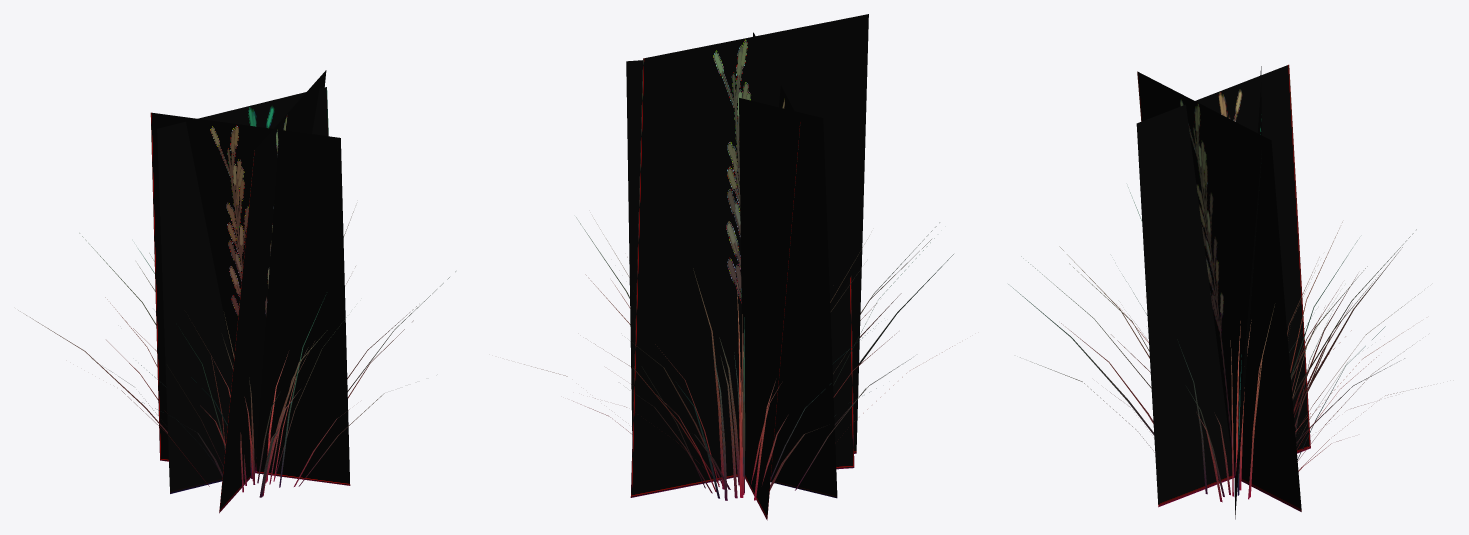
3 views of the same model, side by side, from view 1: azimuth 30°, elevation 25°; view 2: azimuth 150°, elevation 25°; view 3: azimuth 270°, elevation 25° (orthographic). The views are drawn at different scales.
Parts seen in each view (by area): view 1: mountain_bunchgrass_LOD1; view 2: mountain_bunchgrass_LOD1; view 3: mountain_bunchgrass_LOD1.
Boxes of the visible parts, x1,y1,x2,y2 form: mountain_bunchgrass_LOD1: [18, 70, 455, 513]; mountain_bunchgrass_LOD1: [524, 14, 953, 520]; mountain_bunchgrass_LOD1: [1008, 64, 1421, 519].
Bounding box in the file's own units: 0.5288 × 0.5451 × 0.5197.
Materials: 1 (1 with a texture image).
